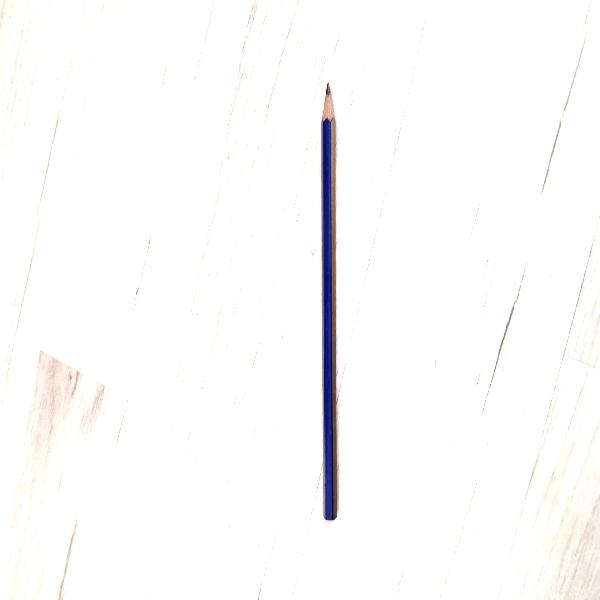pencil: (313, 84, 352, 523)
